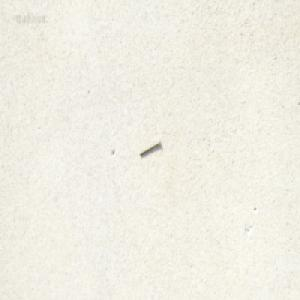Bolt: (139, 138, 161, 157)
